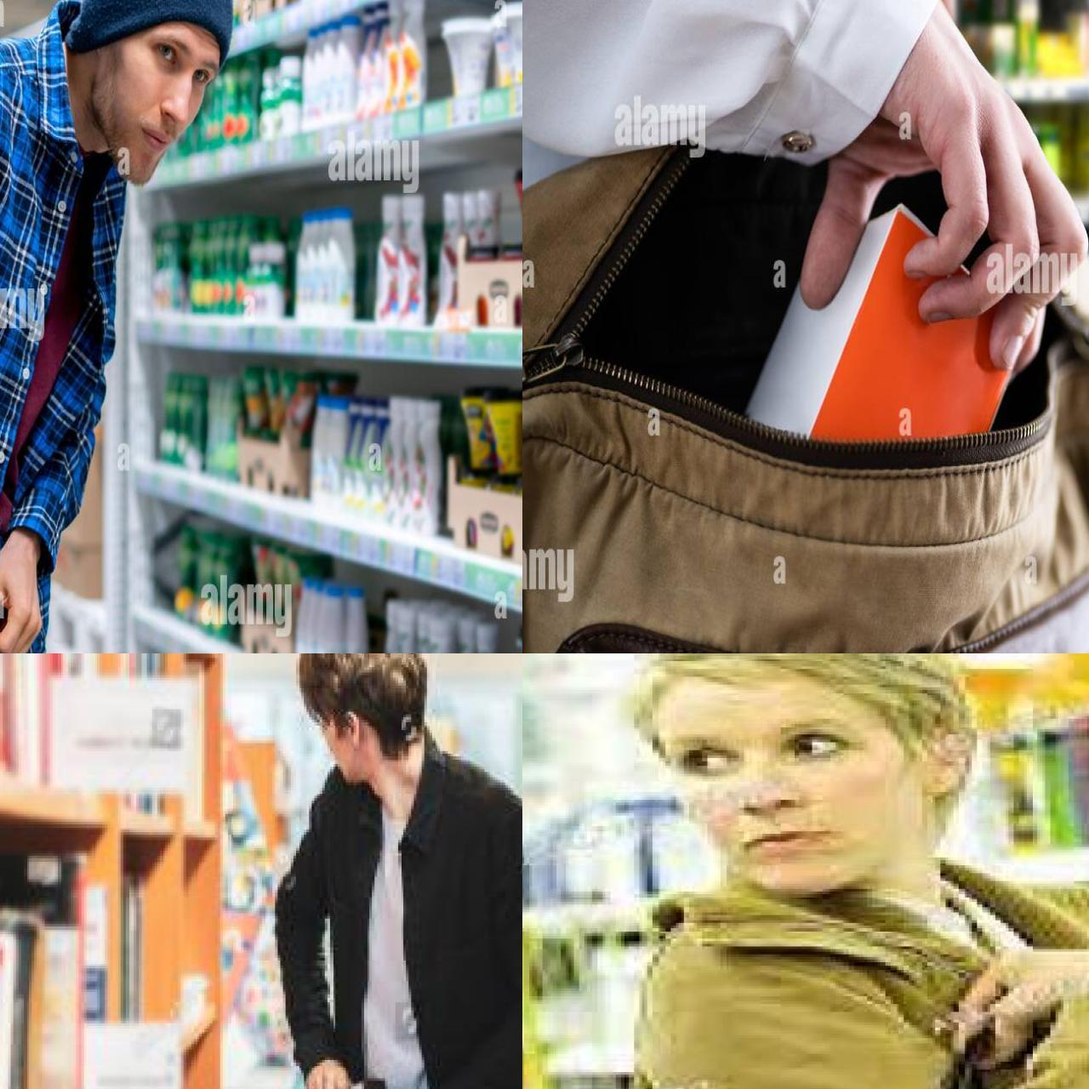shoplifting: (523, 65, 1088, 647)
